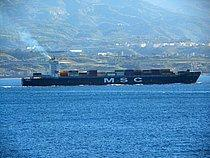Ship: (19, 67, 203, 89)
